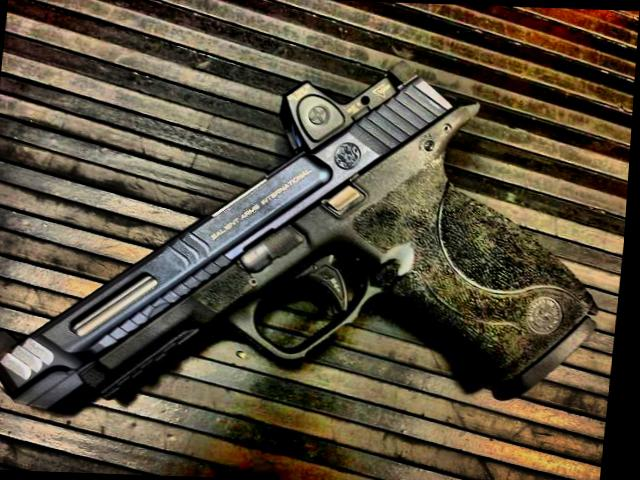pistol: (0, 47, 627, 433)
